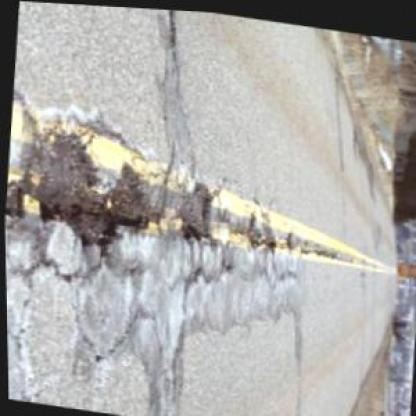pothole: (2, 129, 156, 258), (175, 176, 216, 243)
